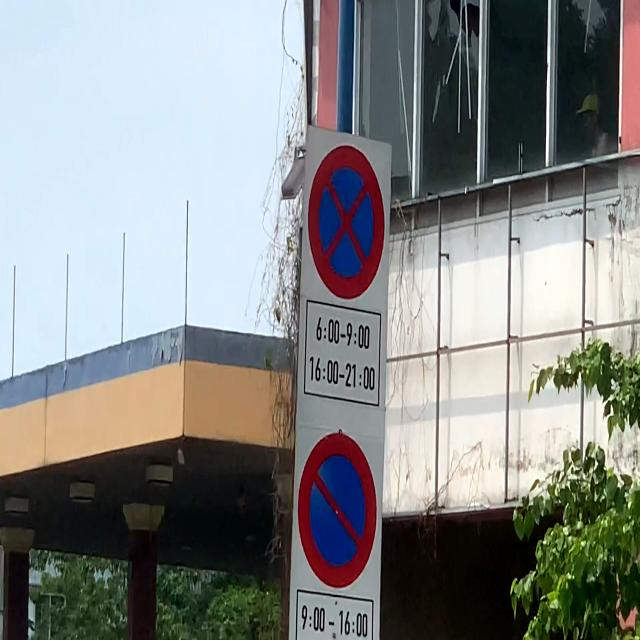P.130: (304, 139, 390, 302)
P.131a: (297, 422, 378, 587)
